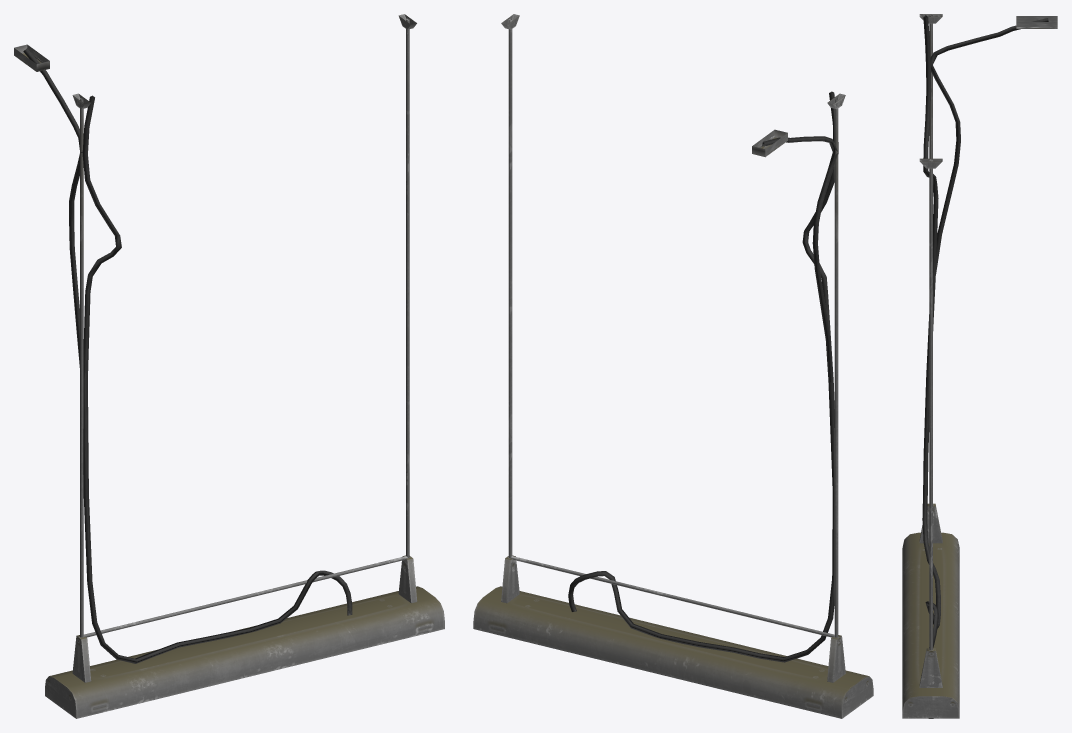
Rendered from SM_LampCeilingA_04.FBX.
The picture shows the model from 3 angles, left to right: view 1: azimuth 30°, elevation 25°; view 2: azimuth 150°, elevation 25°; view 3: azimuth 270°, elevation 25°; orthographic projection. The views are drawn at different scales.
Visible parts, largest first — view 1: SM_LampCeilingA_04_LOD0; view 2: SM_LampCeilingA_04_LOD0; view 3: SM_LampCeilingA_04_LOD0.
Boxes of the visible parts, bbox=[...] form: SM_LampCeilingA_04_LOD0: bbox=[14, 14, 444, 718]; SM_LampCeilingA_04_LOD0: bbox=[473, 14, 873, 718]; SM_LampCeilingA_04_LOD0: bbox=[902, 14, 1057, 718].
Bounding box in the file's own units: 200 × 80.05 × 319.
